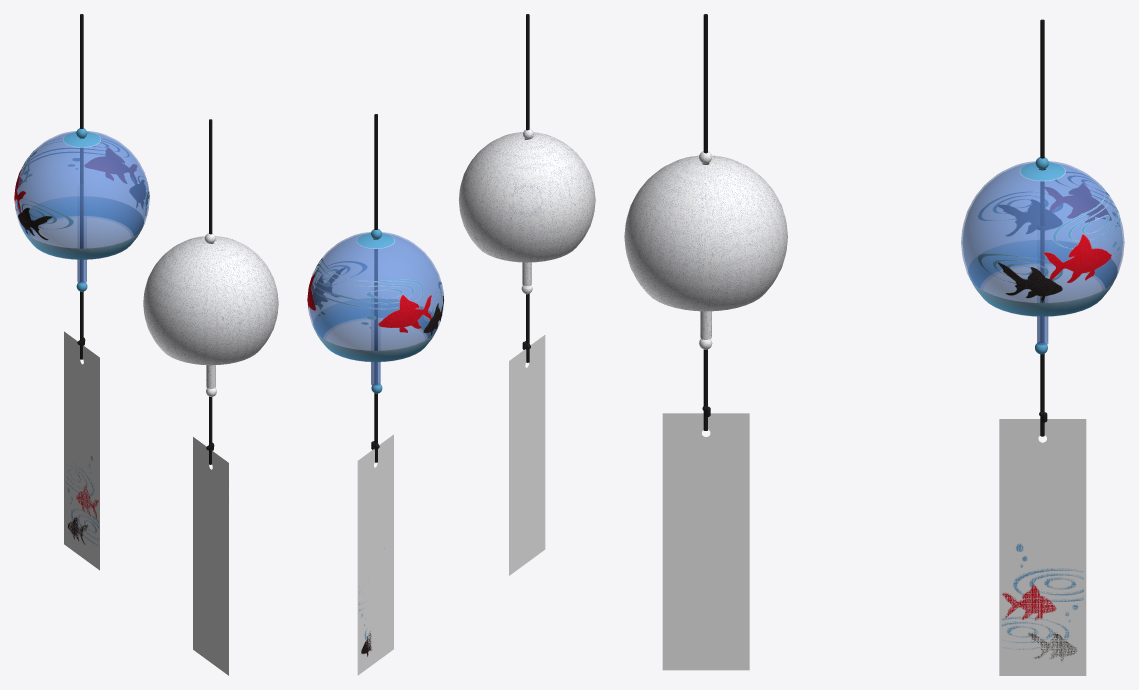
3 renders of one model, left to right at view 1: azimuth 30°, elevation 25°; view 2: azimuth 150°, elevation 25°; view 3: azimuth 270°, elevation 25°, orthographic. The views are drawn at different scales.
Parts seen in each view (by area): view 1: group_12 (×2), group_2, group_1, group_19, group_8 (×2), image_0, image_1; view 2: group_12 (×2), group_2, group_1, group_19, group_8 (×2); view 3: group_12 (×2), group_1, group_19, group_2, image_1, group_8 (×2).
Part boxes in pixels (box(x1,y1,x2,y2)): group_12 (×2): box(14, 131, 149, 259); group_2: box(143, 236, 278, 365); group_1: box(193, 437, 228, 675); group_19: box(64, 331, 99, 570); group_8 (×2): box(80, 14, 212, 464); image_0: box(66, 455, 98, 545); image_1: box(65, 456, 98, 545); group_12 (×2): box(307, 232, 444, 361); group_2: box(458, 132, 595, 262); group_1: box(509, 335, 545, 575); group_19: box(357, 434, 393, 675); group_8 (×2): box(374, 14, 529, 462); group_12 (×2): box(961, 161, 1124, 316); group_1: box(662, 413, 749, 670); group_19: box(999, 419, 1086, 675); group_2: box(624, 155, 787, 311); image_1: box(1001, 544, 1083, 662); group_8 (×2): box(703, 14, 1044, 436).
Bounding box in the file's own units: 3.22 × 9.03 × 13.06.
